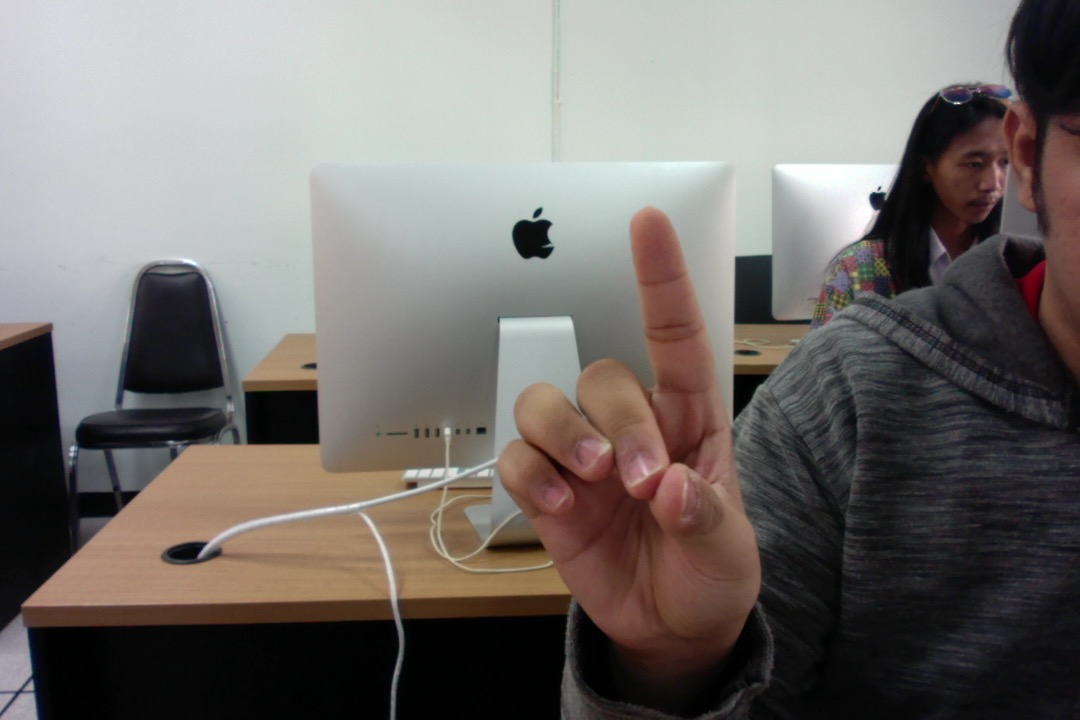dor: (480, 185, 786, 672)
